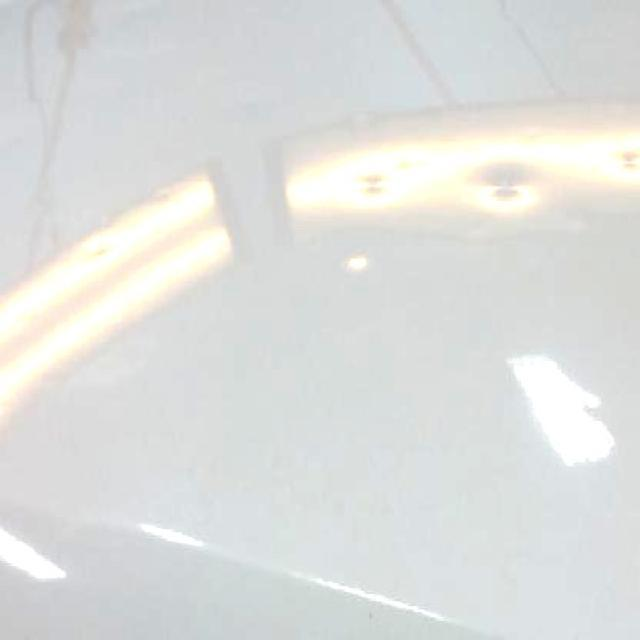dent: (472, 161, 543, 214), (355, 172, 389, 203), (618, 149, 640, 172), (347, 254, 372, 274), (95, 244, 115, 263)
